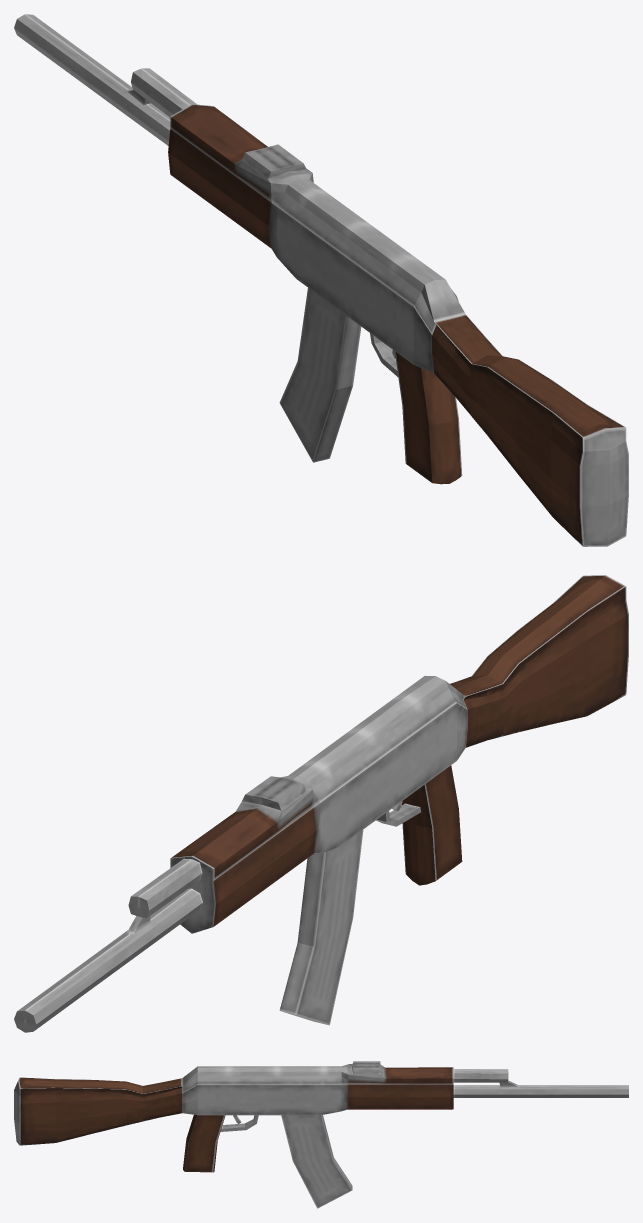
The picture shows the model from 3 angles, top to bottom: view 1: azimuth 30°, elevation 25°; view 2: azimuth 150°, elevation 25°; view 3: azimuth 270°, elevation 25°; orthographic projection. The views are drawn at different scales.
Visible parts, largest first — view 1: AK47; view 2: AK47; view 3: AK47.
Boxes of the visible parts, bbox=[...] form: AK47: bbox=[14, 14, 628, 546]; AK47: bbox=[14, 575, 628, 1032]; AK47: bbox=[14, 1061, 628, 1208].
Bounding box in the file's own units: 64.47 × 341 × 1343.
1 material, 1 textured.
